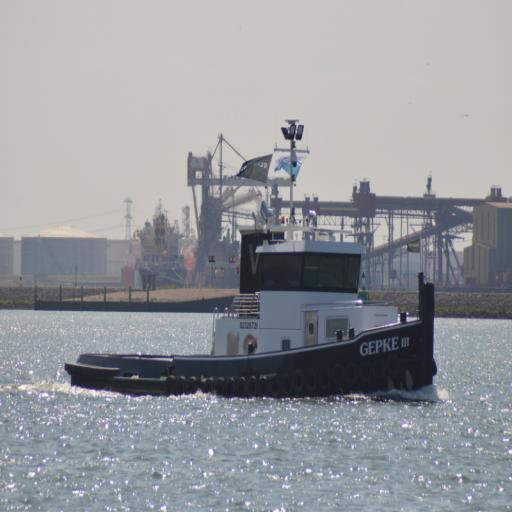tugboat: (62, 116, 443, 420)
